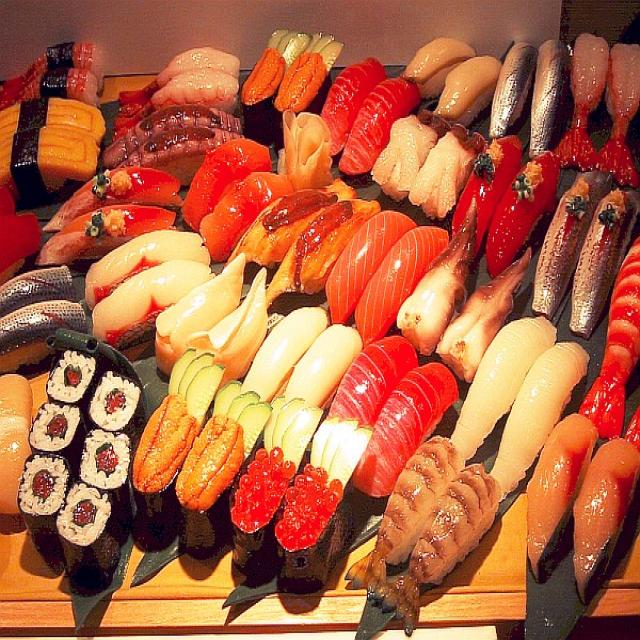寿司卷物: (0, 1, 640, 640)
